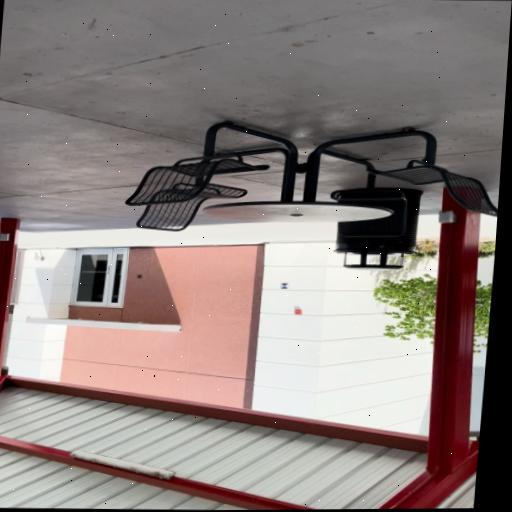target2: (280, 283, 289, 289)
